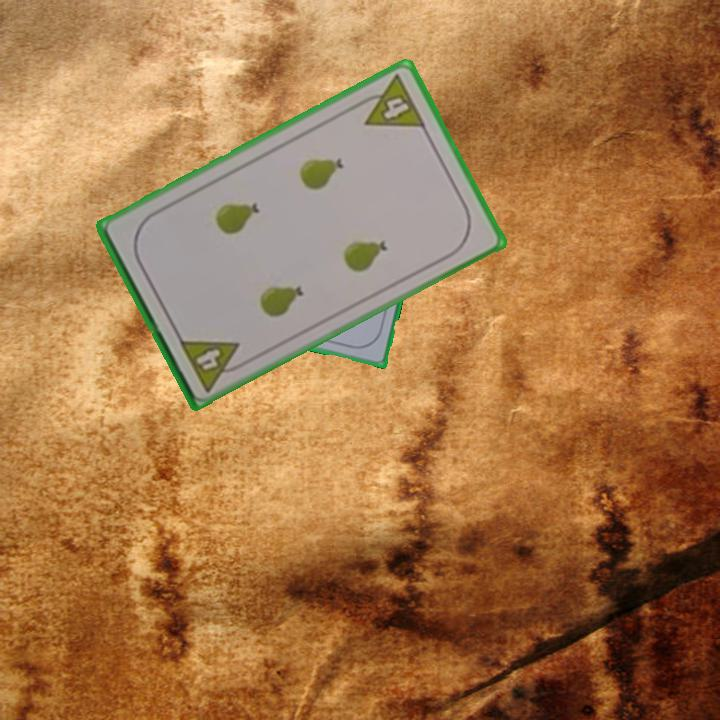4p: (352, 70, 429, 131), (175, 335, 250, 395)
